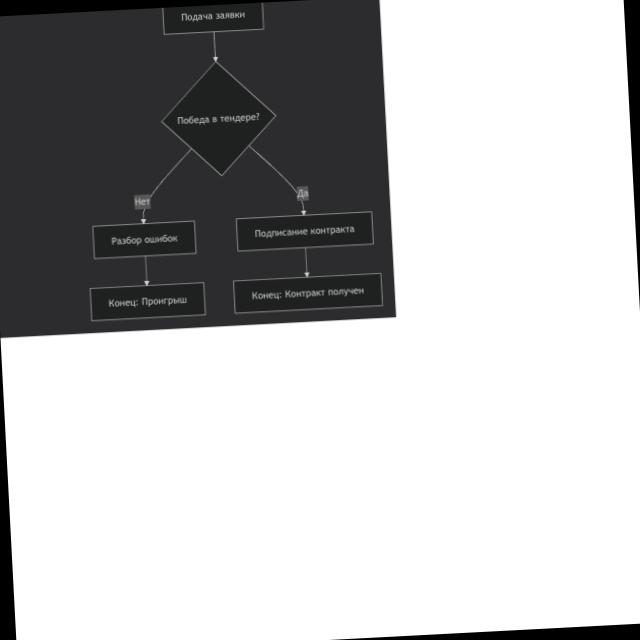arrow: (137, 149, 197, 224), (249, 142, 308, 218), (142, 256, 151, 286), (211, 31, 219, 62), (303, 247, 311, 277)
diamond: (159, 58, 280, 180)
rectangle: (233, 273, 383, 314), (236, 211, 374, 252), (90, 282, 206, 321), (92, 221, 197, 260)
text_region: (135, 197, 151, 207), (297, 188, 309, 200)
